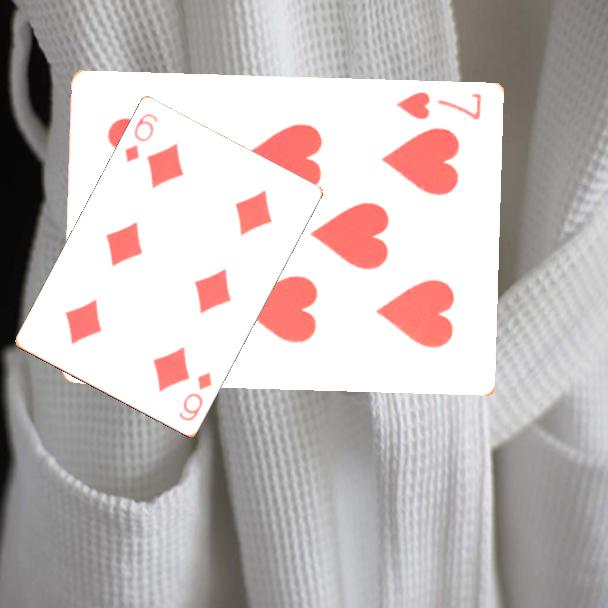d06: (121, 110, 161, 166), (175, 369, 215, 424)
h07: (394, 88, 485, 123)
